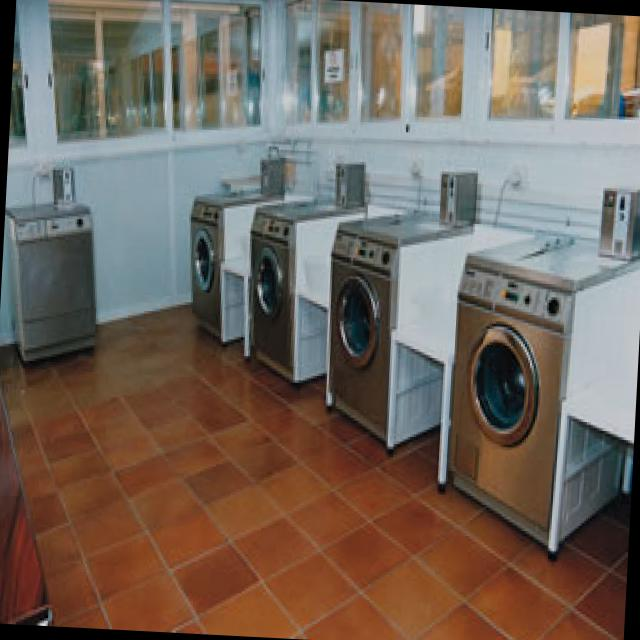2001: (47, 0, 164, 138), (169, 0, 259, 128), (565, 13, 640, 117), (487, 8, 558, 116), (411, 4, 463, 114), (361, 2, 399, 119), (315, 0, 347, 120), (281, 0, 309, 118)
floor -X: (0, 282, 628, 640)
table -X: (384, 316, 454, 484)
table lamp: (548, 361, 636, 554)
table runner: (293, 275, 330, 406), (221, 255, 249, 356)
tumble dryer occluded: (8, 163, 93, 363)
wall clock: (256, 0, 640, 475), (0, 0, 273, 343)
washing machine crop: (444, 185, 640, 548), (326, 171, 487, 441), (251, 158, 374, 377), (188, 150, 314, 342)
